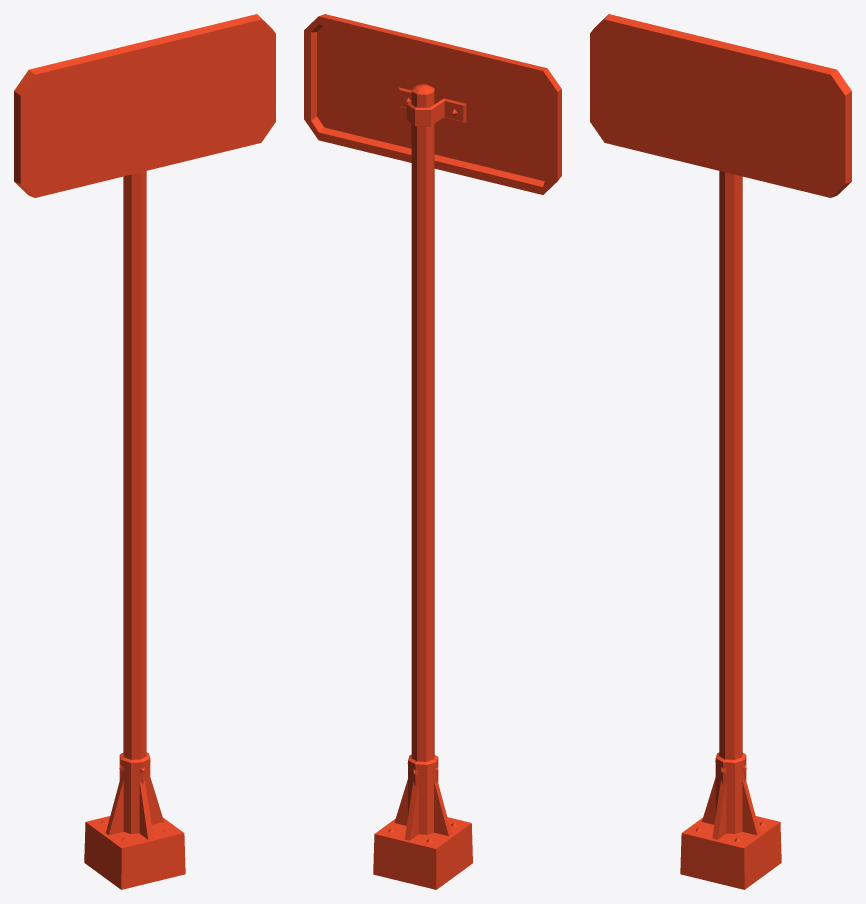
File: SM_Sign_East_B_City.fbx
The picture shows the model from 3 angles, left to right: view 1: azimuth 30°, elevation 25°; view 2: azimuth 150°, elevation 25°; view 3: azimuth 330°, elevation 25°; orthographic projection.
Visible parts, largest first — view 1: SM_Sign_East_B_City; view 2: SM_Sign_East_B_City; view 3: SM_Sign_East_B_City.
Part boxes in pixels (x1,y1,x2,y2): SM_Sign_East_B_City: [14, 14, 275, 889]; SM_Sign_East_B_City: [304, 14, 561, 889]; SM_Sign_East_B_City: [590, 14, 851, 889].
Size of the model in its own units: 0.7368 by 2.27 by 0.1839.
